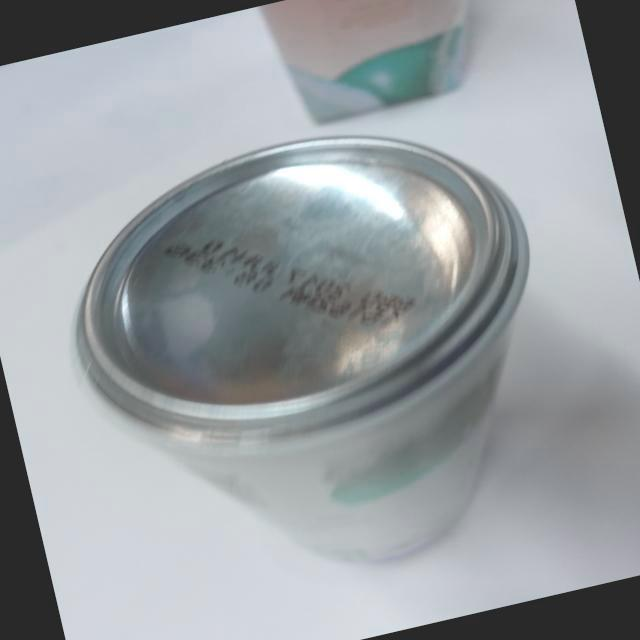metal: (19, 79, 605, 640)
